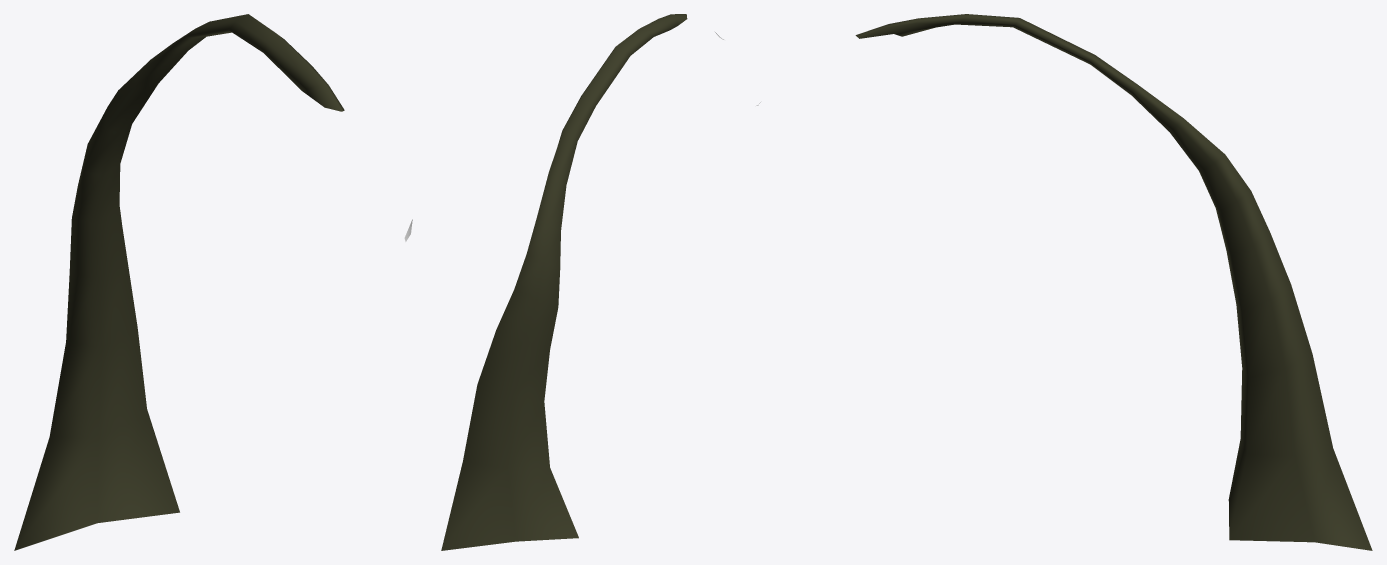
Rendered from antena_pez.obj.
The picture shows the model from 3 angles, left to right: view 1: azimuth 30°, elevation 25°; view 2: azimuth 150°, elevation 25°; view 3: azimuth 270°, elevation 25°; orthographic projection. The views are drawn at different scales.
Visible parts, largest first — view 1: pasted__polySurface2_pasted__lambert13_0_pasted__lambert12.001; view 2: pasted__polySurface2_pasted__lambert13_0_pasted__lambert12.001; view 3: pasted__polySurface2_pasted__lambert13_0_pasted__lambert12.001.
Part boxes in pixels (x1,y1,x2,y2): pasted__polySurface2_pasted__lambert13_0_pasted__lambert12.001: (14,14,344,550); pasted__polySurface2_pasted__lambert13_0_pasted__lambert12.001: (441,14,687,550); pasted__polySurface2_pasted__lambert13_0_pasted__lambert12.001: (855,14,1372,550).
Bounding box in the file's own units: 2.52 × 9.35 × 10.18.
